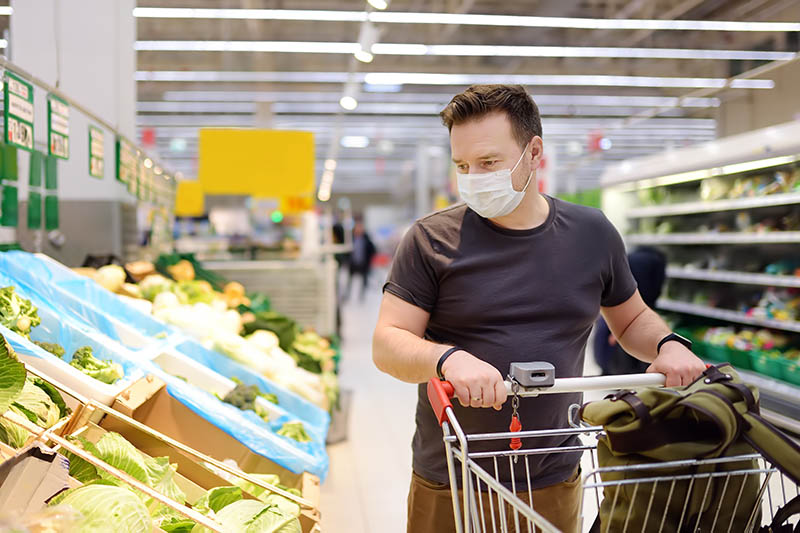with_mask: (451, 142, 524, 212)
